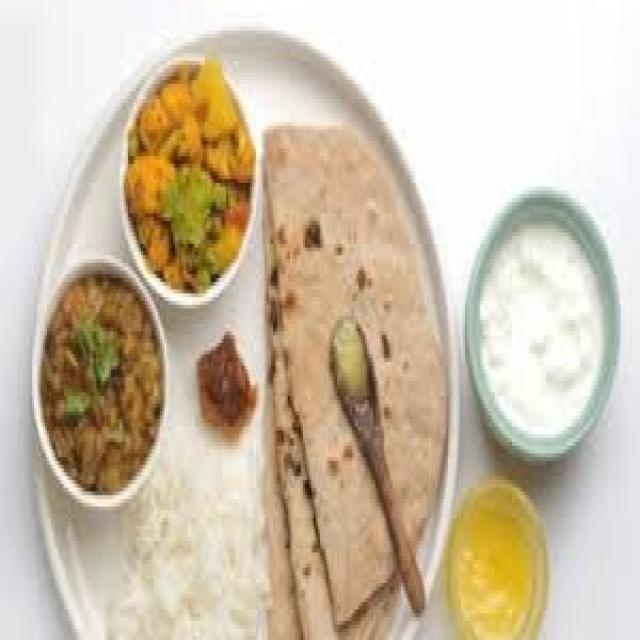curd: (466, 212, 623, 447)
dal: (44, 284, 157, 487)
pickle: (184, 336, 264, 446)
roti: (266, 156, 399, 634)
veg-fry: (130, 53, 251, 299), (32, 272, 165, 494)
